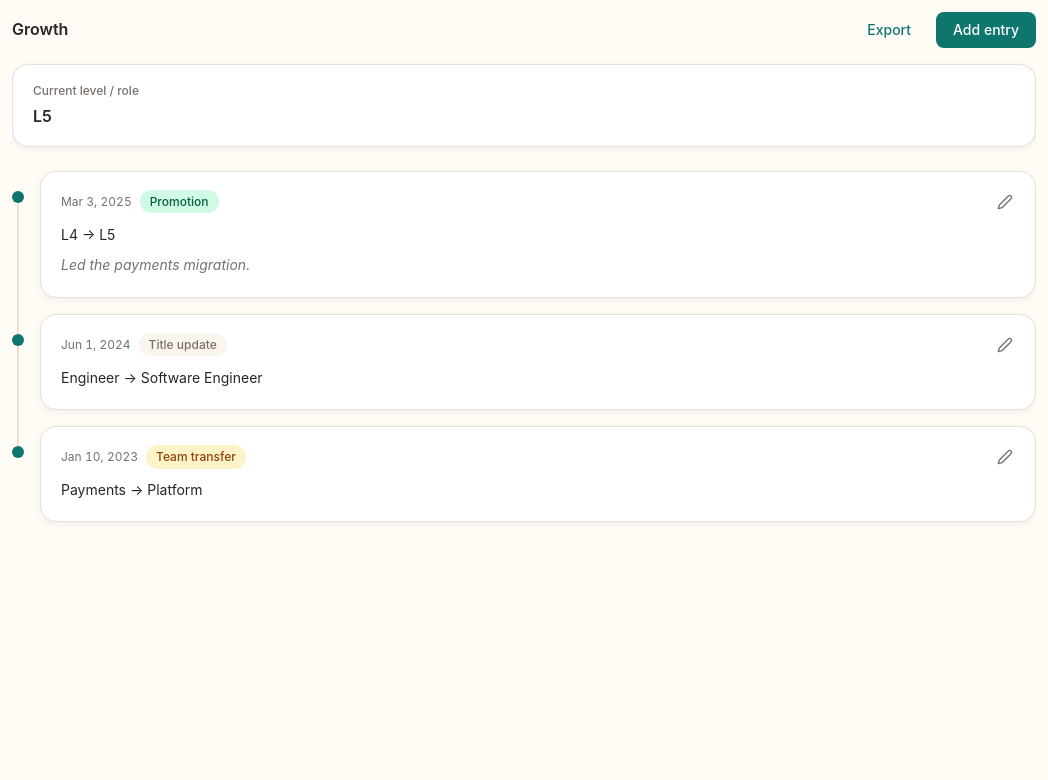
GrowthTimeline › copies a plain-text summary and confirms without echoing it
The width and height of the screenshot is (1048, 780).
Click the button with aria-label "Export growth history as text" at coordinates (889, 30), box [850,12,928,48]
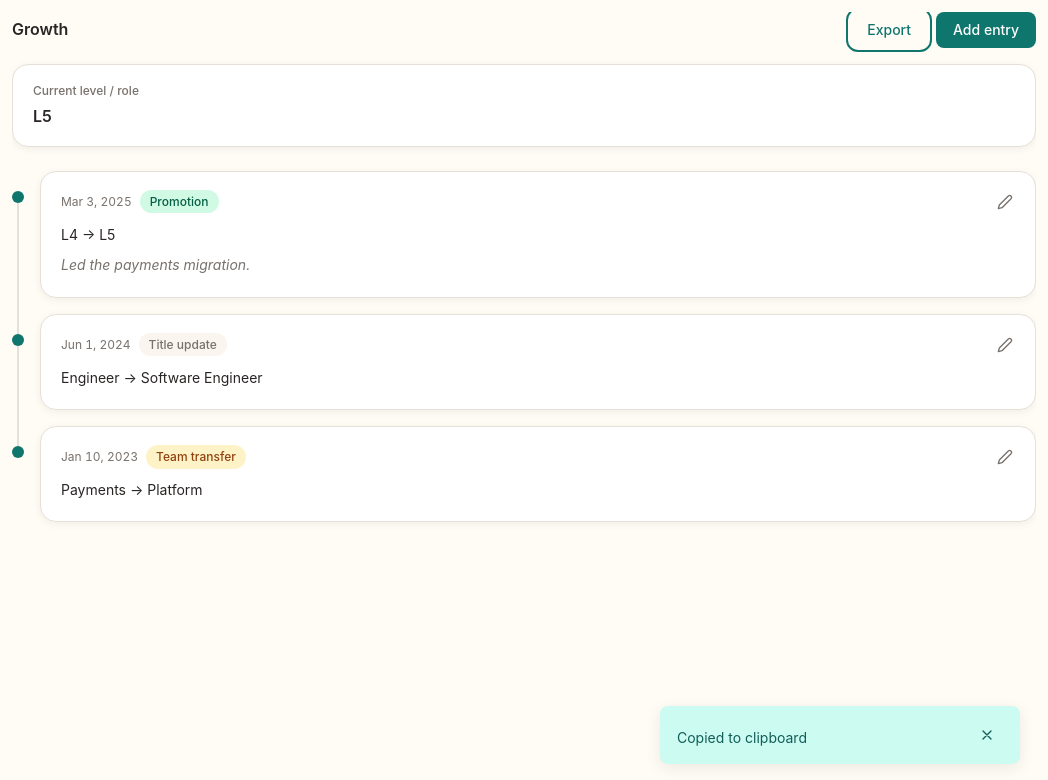
Check: the message does not show "L5", box [660,706,1020,764]
Check: the message reads "Copied to clipboard", box [677,729,807,746]
